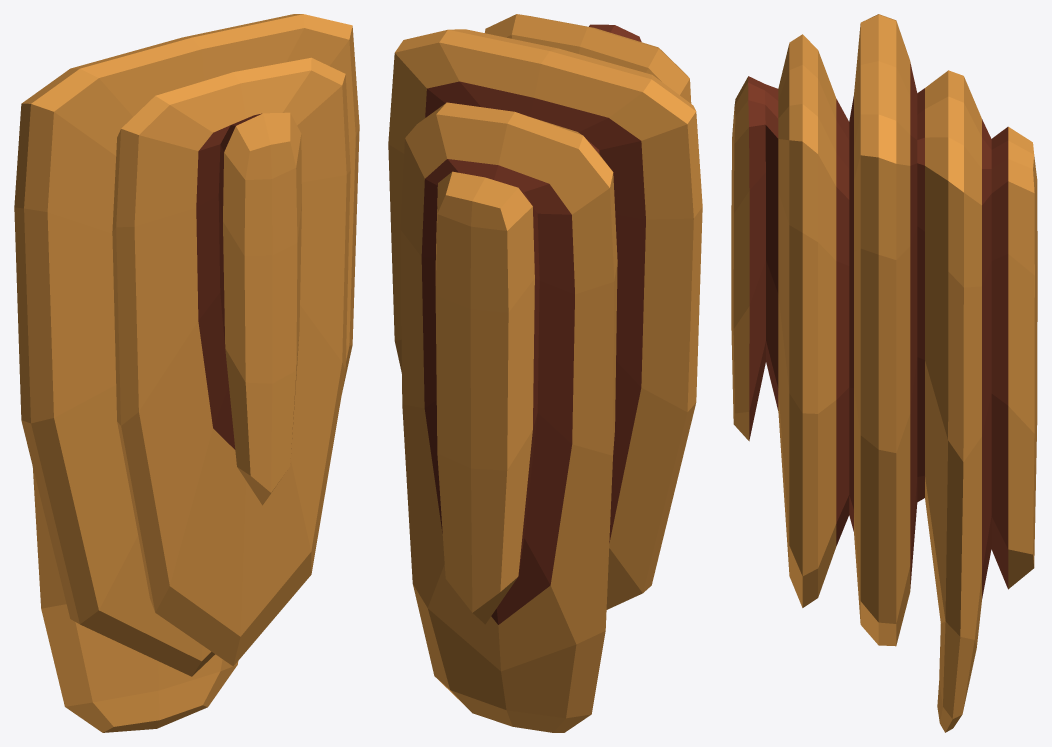
File: beehive2.fbx
The picture shows the model from 3 angles, left to right: view 1: azimuth 30°, elevation 25°; view 2: azimuth 150°, elevation 25°; view 3: azimuth 270°, elevation 25°; orthographic projection. The views are drawn at different scales.
Parts seen in each view (by area): view 1: beehive1.003; view 2: beehive1.003; view 3: beehive1.003.
Boxes of the visible parts, box(x1,y1,x2,y2) form: beehive1.003: box(14, 14, 359, 732); beehive1.003: box(388, 14, 702, 732); beehive1.003: box(731, 14, 1037, 732).
Size of the model in its own units: 82.53 by 168 by 71.35.
